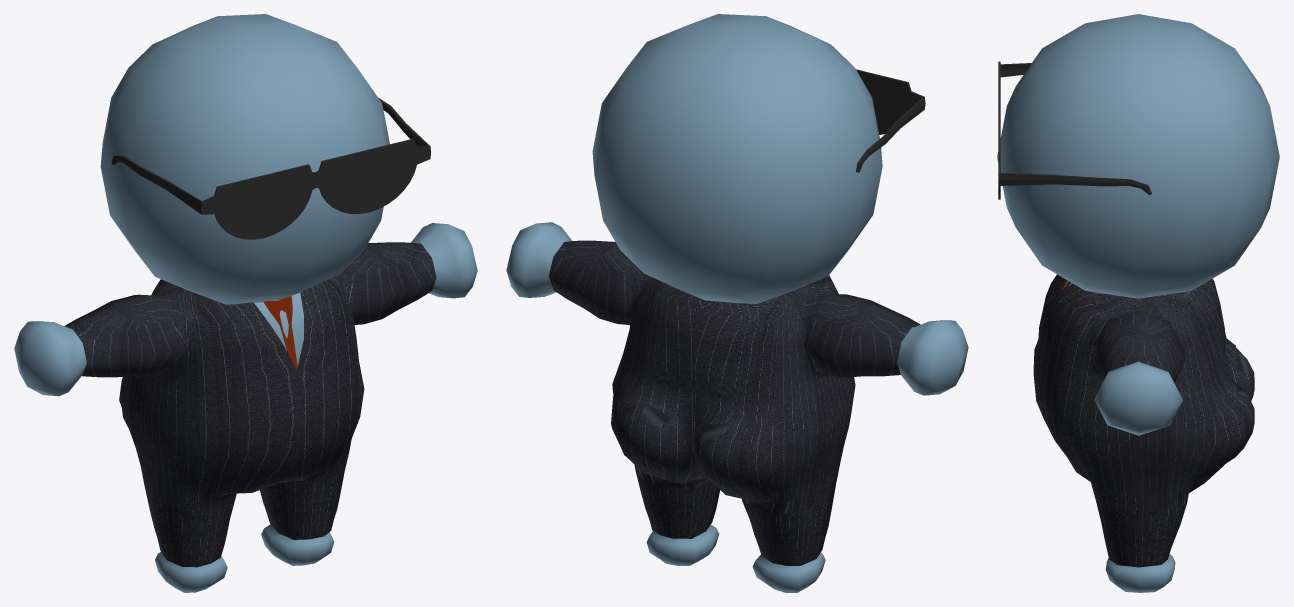
The model's file is Char_2.fbx.
3 renders of one model, left to right at view 1: azimuth 30°, elevation 25°; view 2: azimuth 150°, elevation 25°; view 3: azimuth 270°, elevation 25°, orthographic. The views are drawn at different scales.
Parts seen in each view (by area): view 1: Plane.002; view 2: Plane.002; view 3: Plane.002.
Boxes of the visible parts, x1=… form: Plane.002: x1=14, y1=14, x2=477, y2=592; Plane.002: x1=506, y1=14, x2=968, y2=592; Plane.002: x1=997, y1=14, x2=1279, y2=592.
Size of the model in its own units: 145 by 167 by 80.81.
Materials: 1 (1 with a texture image).
